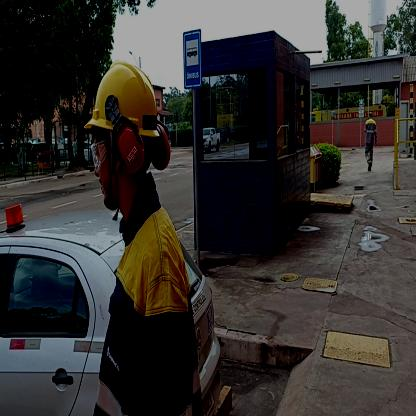C_eletrica: (106, 242, 198, 416)
Capacete: (92, 59, 160, 135)
